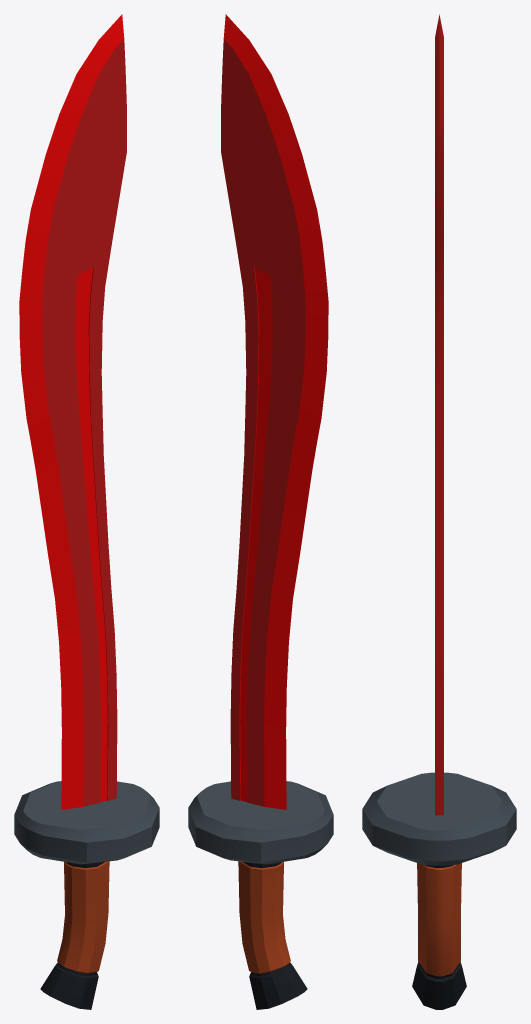
The model's file is SM_Sword04_Dao_5FantasyRed.fbx.
3 renders of one model, left to right at view 1: azimuth 30°, elevation 25°; view 2: azimuth 150°, elevation 25°; view 3: azimuth 270°, elevation 25°, orthographic. The views are drawn at different scales.
Parts seen in each view (by area): view 1: Cube.388, Cylinder.506, Cylinder.507; view 2: Cube.388, Cylinder.506, Cylinder.507; view 3: Cylinder.506, Cube.388, Cylinder.507.
Part boxes in pixels (x1,y1,x2,y2): Cube.388: [19, 14, 126, 809]; Cylinder.506: [14, 781, 159, 864]; Cylinder.507: [40, 861, 109, 1009]; Cube.388: [221, 14, 328, 809]; Cylinder.506: [188, 781, 333, 864]; Cylinder.507: [238, 861, 307, 1009]; Cylinder.506: [362, 772, 516, 865]; Cube.388: [435, 14, 443, 815]; Cylinder.507: [412, 863, 466, 1009].
Size of the model in its own units: 0.1072 by 0.7695 by 0.1062.
